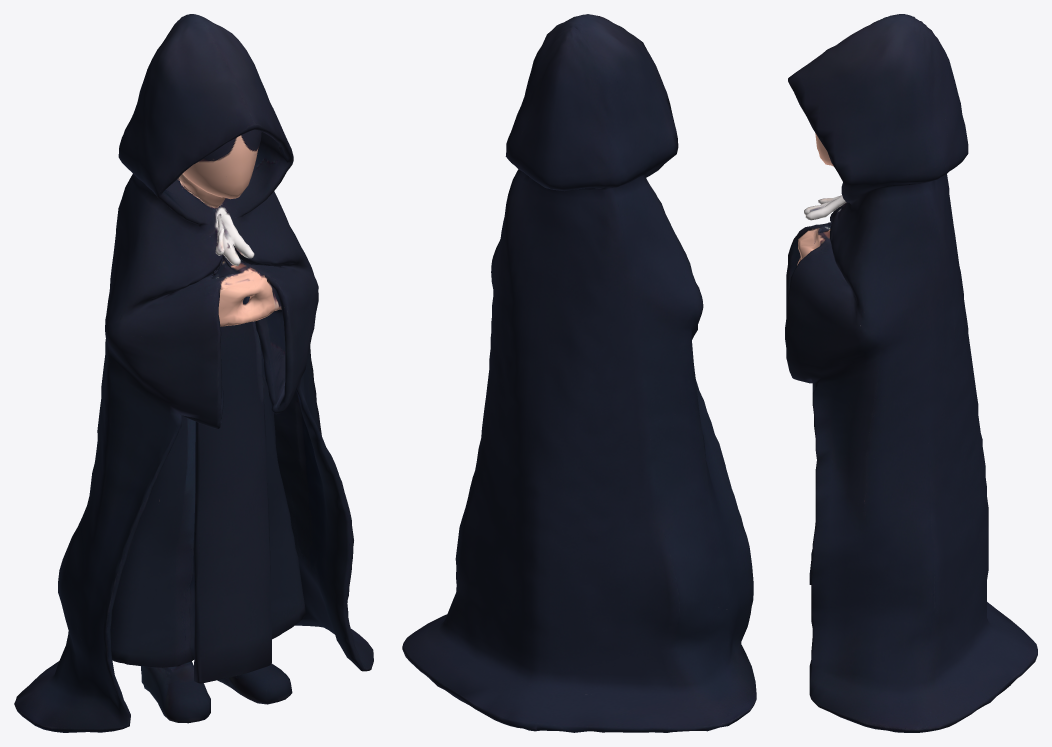
Rendered from npc_mourner_hooded.glb.
The picture shows the model from 3 angles, left to right: view 1: azimuth 30°, elevation 25°; view 2: azimuth 150°, elevation 25°; view 3: azimuth 270°, elevation 25°; orthographic projection. The views are drawn at different scales.
Bounding box in the file's own units: 0.998 × 1.91 × 0.681.
1 material, 1 textured.
